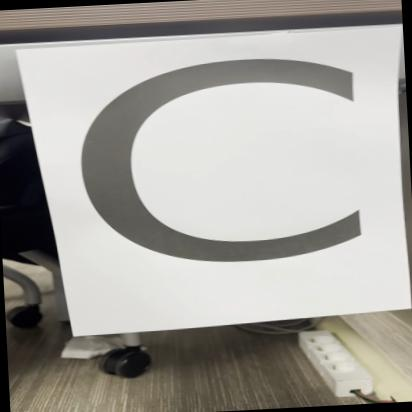seat: (18, 28, 412, 345)
